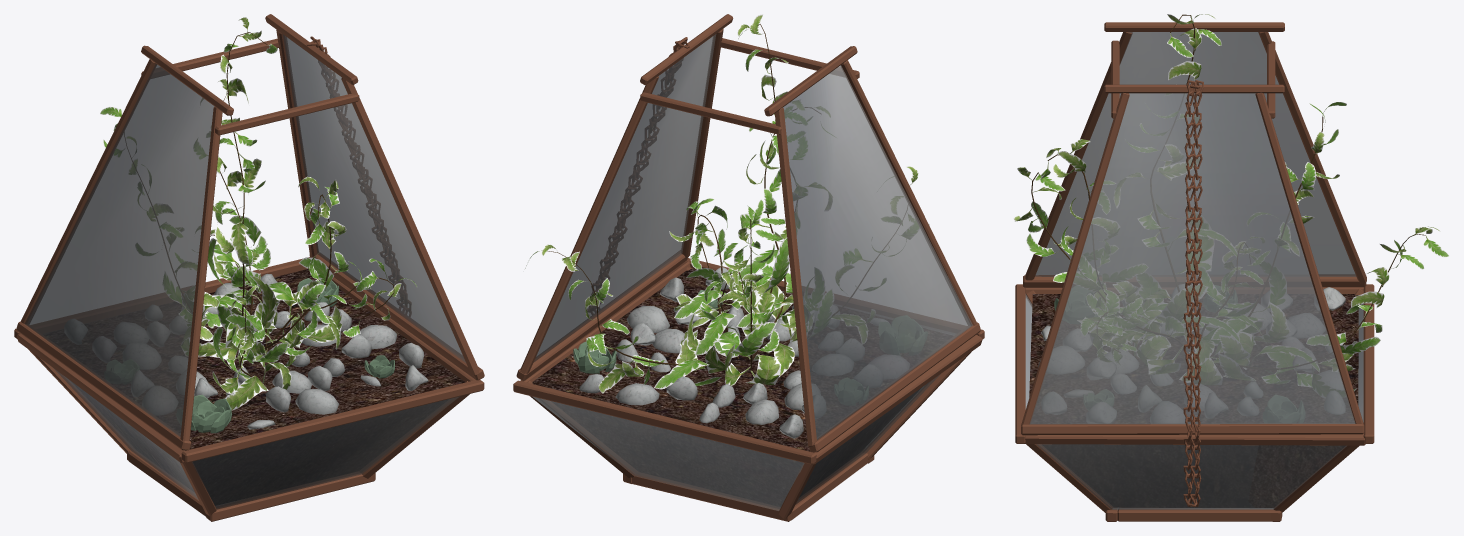
3 views of the same model, side by side, from view 1: azimuth 30°, elevation 25°; view 2: azimuth 150°, elevation 25°; view 3: azimuth 270°, elevation 25° (orthographic). The views are drawn at different scales.
Parts seen in each view (by area): view 1: Object_6, Object_10, Object_2, Object_4, Object_9, Object_5, Object_8, Object_3, Object_7, Object_11; view 2: Object_6, Object_10, Object_2, Object_4, Object_9, Object_5, Object_8, Object_7, Object_3, Object_11; view 3: Object_6, Object_10, Object_2, Object_4, Object_5, Object_9, Object_11, Object_3, Object_7, Object_8.
Part boxes in pixels (x1,y1,x2,y2): Object_6: (25, 34, 465, 509); Object_10: (14, 14, 484, 521); Object_2: (44, 268, 465, 505); Object_4: (100, 17, 416, 410); Object_9: (65, 273, 428, 429); Object_5: (113, 22, 403, 391); Object_8: (117, 295, 394, 433); Object_3: (130, 32, 394, 384); Object_7: (104, 278, 392, 430); Object_11: (306, 36, 407, 314); Object_6: (532, 34, 972, 510); Object_10: (513, 14, 984, 521); Object_2: (532, 268, 952, 506); Object_4: (525, 14, 929, 389); Object_9: (579, 267, 909, 438); Object_5: (534, 25, 919, 393); Object_8: (602, 290, 927, 394); Object_7: (573, 289, 920, 404); Object_3: (547, 24, 907, 373); Object_11: (587, 39, 689, 312); Object_6: (1025, 32, 1363, 509); Object_10: (1015, 22, 1374, 521); Object_2: (1029, 294, 1358, 507); Object_4: (1013, 14, 1449, 383); Object_5: (1020, 15, 1435, 397); Object_9: (1038, 284, 1345, 422); Object_11: (1187, 80, 1203, 507); Object_3: (1031, 14, 1425, 369); Object_7: (1068, 285, 1304, 422); Object_8: (1054, 285, 1278, 412).
Bounding box in the file's own units: 26.99 × 37.07 × 31.41.
7 materials, 4 textured.
